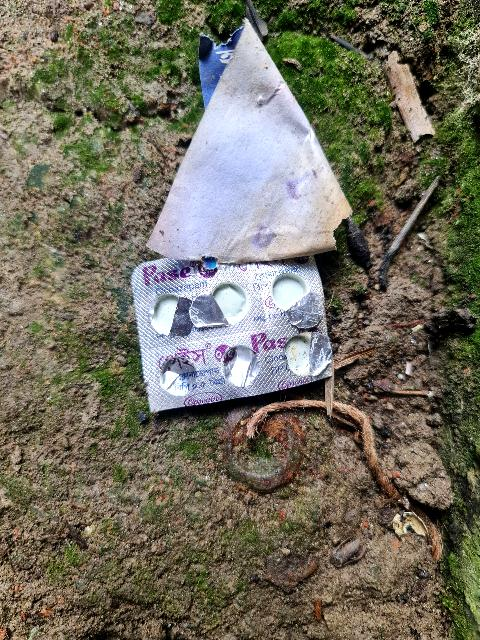medicine: (123, 249, 350, 419)
